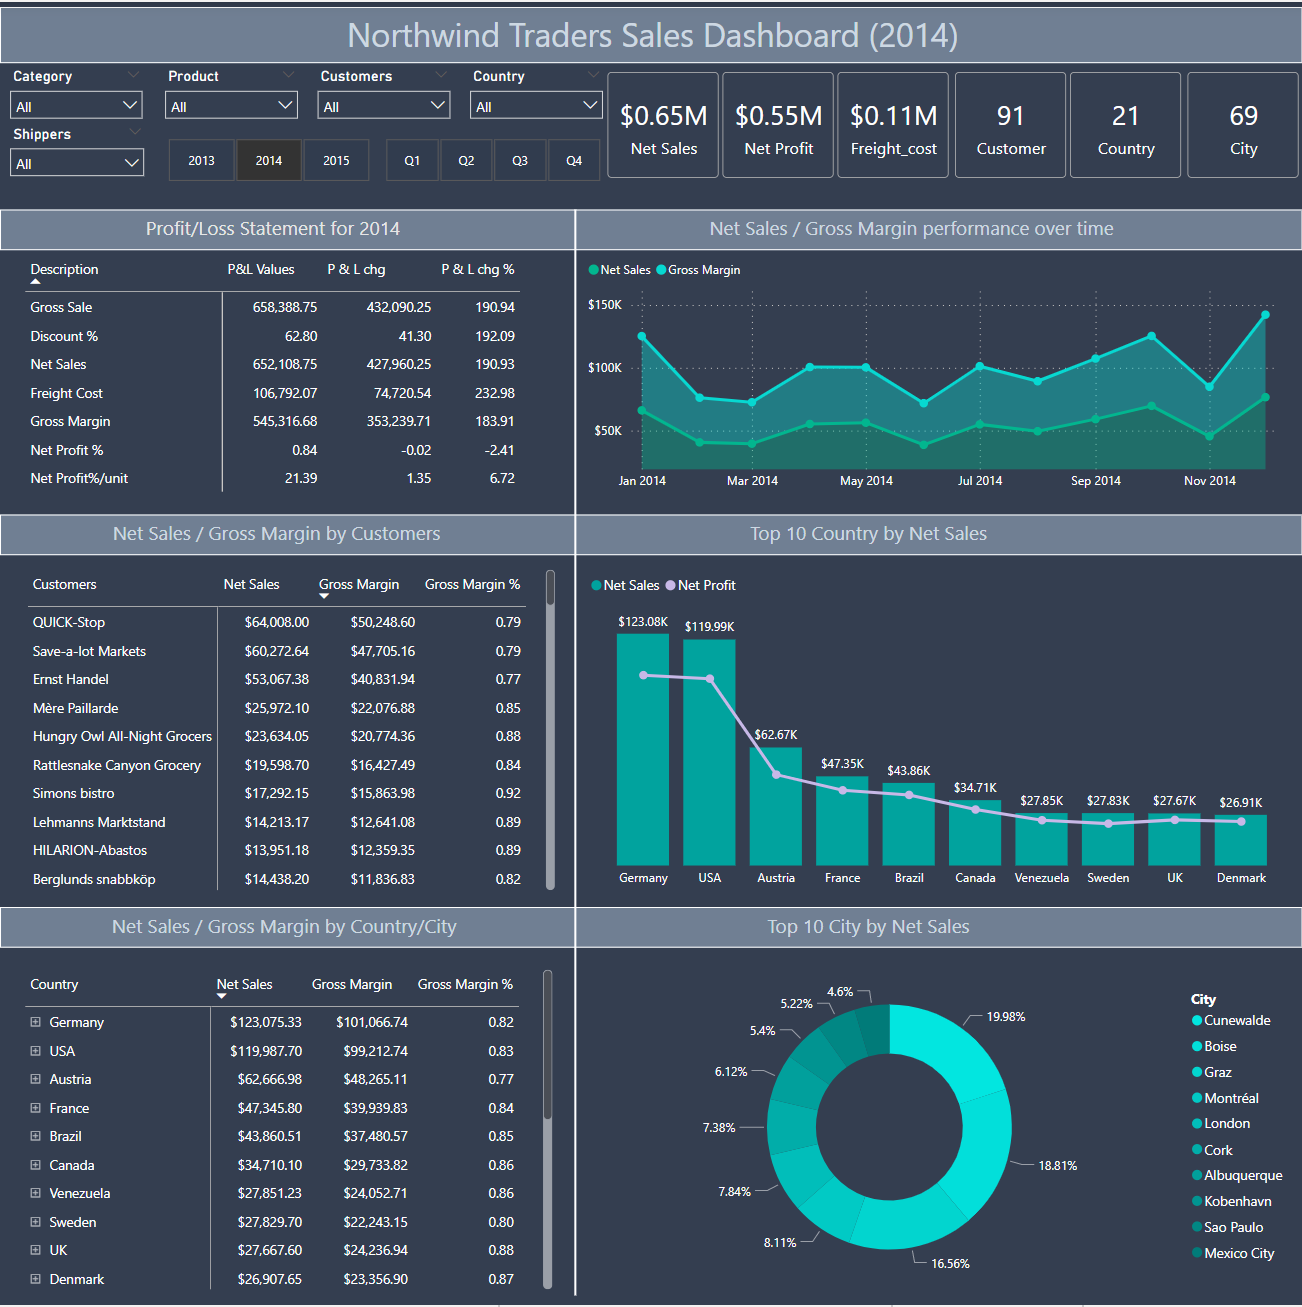

What the dashboard file says about the page in this screenshot:
{"tool":"powerbi","page":{"name":"Sales View","canvas":[1280,1280],"ordinal":0},"visuals":[{"type":"slicer","fields":{"Values":["dim_date.Year"]},"box":[139.7,128.3,246.7,55],"z":0},{"type":"slicer","fields":{"Values":["dim_categories.CategoryName"]},"box":[0.8,60,150,70],"z":1000},{"type":"slicer","fields":{"Values":["dim_customers.CompanyName"]},"box":[301.5,60,150.3,70.2],"z":2000},{"type":"slicer","fields":{"Values":["dim_customers.Country"]},"box":[451.8,60,150.3,70.2],"z":3000},{"type":"slicer","fields":{"Values":["dim_shippers.CompanyName"]},"box":[0,116.7,151.7,70],"z":4000},{"type":"slicer","fields":{"Values":["dim_products.ProductName"]},"box":[151.1,60,150.3,70.2],"z":5000},{"type":"slicer","fields":{"Values":["dim_date.Q"]},"box":[354.7,128.3,260,55],"z":6000},{"type":"pivotTable","fields":{"Rows":["dim_customers.CompanyName"],"Values":["My Measures.Net Sales","My Measures.Gross Margin","My Measures.Gross Margin %"]},"box":[21.7,553.3,528.3,325],"z":7000},{"type":"pivotTable","fields":{"Rows":["dim_customers.Country","dim_customers.City"],"Values":["My Measures.Net Sales","My Measures.Gross Margin","My Measures.Gross Margin %"]},"box":[19.4,944.7,528,324],"z":8000},{"type":"stackedAreaChart","fields":{"Category":["dim_date.Date"],"Y":["My Measures.Net Sales","My Measures.Gross Margin"]},"box":[571.8,243.7,702,245],"z":9000},{"type":"textbox","box":[12,503,524,36],"z":10000},{"type":"textbox","box":[16,890,524,44],"z":11000},{"type":"textbox","box":[566.7,203.3,656.7,40],"z":12000},{"type":"pivotTable","fields":{"Values":["My Measures.P&L Values","My Measures.P & L chg","My Measures.P & L chg %"],"Rows":["P&L rows.Description"]},"box":[18.9,243.3,527.5,245],"z":13000},{"type":"textbox","box":[596.7,503.3,523.3,40],"z":14000},{"type":"lineClusteredColumnComboChart","fields":{"Category":["dim_customers.Country"],"Y":["My Measures.Net Sales"],"Y2":["My Measures.Net Profit"]},"box":[574,552.8,702,326],"z":15000},{"type":"donutChart","fields":{"Category":["dim_customers.City","dim_customers.Country"],"Y":["My Measures.Net Sales"]},"box":[573.4,944.6,702,324],"z":16000},{"type":"textbox","box":[596.7,890,523.3,40],"z":17000},{"type":"shape","box":[0,204,1280,40],"z":19000},{"type":"shape","box":[0,8.2,1280,54.4],"z":20000},{"type":"shape","box":[0,503.3,1280,40],"z":21000},{"type":"shape","box":[0,890,1280,40],"z":22000},{"type":"card","fields":{"Values":["My Measures.Net Sales"]},"box":[596,70,109,104],"z":23000},{"type":"card","fields":{"Values":["My Measures.Net Profit"]},"box":[710,70,109,104],"z":24000},{"type":"card","fields":{"Values":["My Measures.Freight_cost"]},"box":[824,70,109,104],"z":25000},{"type":"card","fields":{"Values":["My Measures.Customer"]},"box":[938,70,109,104],"z":26000},{"type":"card","fields":{"Values":["My Measures.Country"]},"box":[1052,70,109,104],"z":27000},{"type":"card","fields":{"Values":["My Measures.City"]},"box":[1166,70,109,104],"z":28000},{"type":"card","fields":{"Values":["My Measures.PLtitle"]},"box":[1,203,536,40],"z":29000},{"type":"shape","box":[414,204.1,300.3,1067.2],"z":30000},{"type":"card","fields":{"Values":["My Measures.Sales Title"]},"box":[0,0,1266.4,70.7],"z":30001}]}

Visuals, with their boxes in screenshot pixels (x1, y1, x2, y2), scaled from the page's 1280x1280 canvas onto the 1302x1307 screenshot:
slicer - dim_date.Year: [left=142, top=131, right=393, bottom=187]
slicer - dim_categories.CategoryName: [left=1, top=61, right=153, bottom=133]
slicer - dim_customers.CompanyName: [left=307, top=61, right=460, bottom=133]
slicer - dim_customers.Country: [left=460, top=61, right=612, bottom=133]
slicer - dim_shippers.CompanyName: [left=0, top=119, right=154, bottom=191]
slicer - dim_products.ProductName: [left=154, top=61, right=307, bottom=133]
slicer - dim_date.Q: [left=361, top=131, right=625, bottom=187]
pivotTable - dim_customers.CompanyName x My Measures.Net Sales: [left=22, top=565, right=559, bottom=897]
pivotTable - dim_customers.Country x dim_customers.City: [left=20, top=965, right=557, bottom=1295]
stackedAreaChart - dim_date.Date x My Measures.Net Sales: [left=582, top=249, right=1296, bottom=499]
textbox: [left=12, top=514, right=545, bottom=550]
textbox: [left=16, top=909, right=549, bottom=954]
textbox: [left=576, top=208, right=1244, bottom=248]
pivotTable - My Measures.P&L Values x My Measures.P & L chg: [left=19, top=248, right=556, bottom=499]
textbox: [left=607, top=514, right=1139, bottom=555]
lineClusteredColumnComboChart - dim_customers.Country x My Measures.Net Sales: [left=584, top=564, right=1298, bottom=897]
donutChart - dim_customers.City x dim_customers.Country: [left=583, top=965, right=1297, bottom=1295]
textbox: [left=607, top=909, right=1139, bottom=950]
shape: [left=0, top=208, right=1301, bottom=249]
shape: [left=0, top=8, right=1301, bottom=64]
shape: [left=0, top=514, right=1301, bottom=555]
shape: [left=0, top=909, right=1301, bottom=950]
card - My Measures.Net Sales: [left=606, top=71, right=717, bottom=178]
card - My Measures.Net Profit: [left=722, top=71, right=833, bottom=178]
card - My Measures.Freight_cost: [left=838, top=71, right=949, bottom=178]
card - My Measures.Customer: [left=954, top=71, right=1065, bottom=178]
card - My Measures.Country: [left=1070, top=71, right=1181, bottom=178]
card - My Measures.City: [left=1186, top=71, right=1297, bottom=178]
card - My Measures.PLtitle: [left=1, top=207, right=546, bottom=248]
shape: [left=421, top=208, right=727, bottom=1298]
card - My Measures.Sales Title: [left=0, top=0, right=1288, bottom=72]
